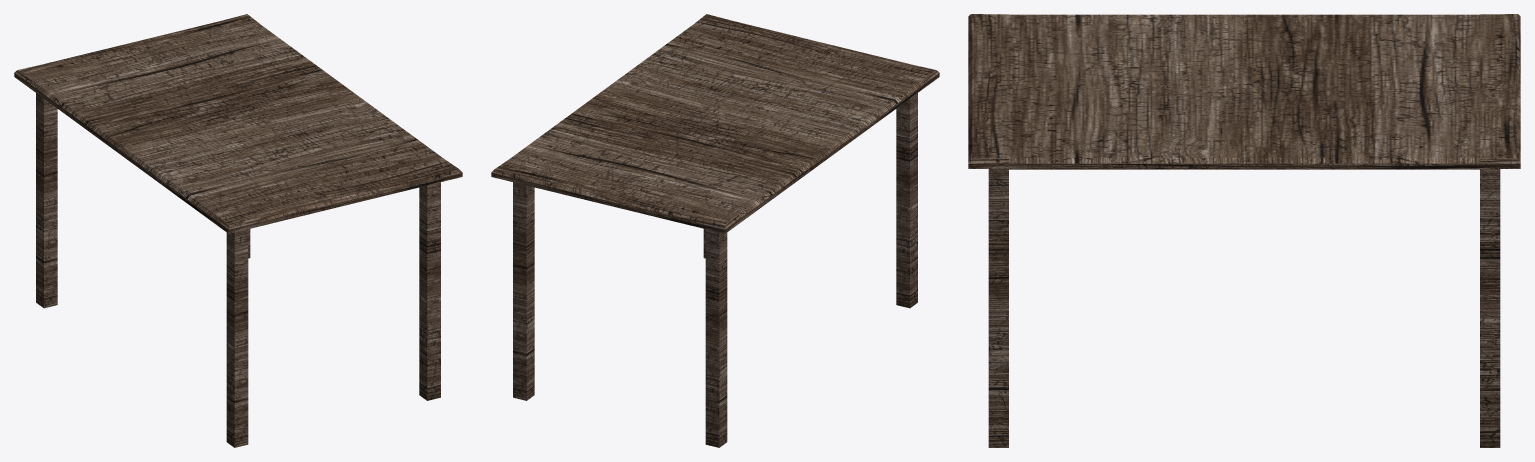
Rendered from Desk001.FBX.
3 renders of one model, left to right at view 1: azimuth 30°, elevation 25°; view 2: azimuth 150°, elevation 25°; view 3: azimuth 270°, elevation 25°, orthographic. The views are drawn at different scales.
Parts seen in each view (by area): view 1: Desk001; view 2: Desk001; view 3: Desk001.
Part boxes in pixels (bbox=[...]): Desk001: bbox=[14, 14, 462, 447]; Desk001: bbox=[491, 14, 939, 447]; Desk001: bbox=[968, 14, 1520, 447].
Bounding box in the file's own units: 85 × 80 × 135.
